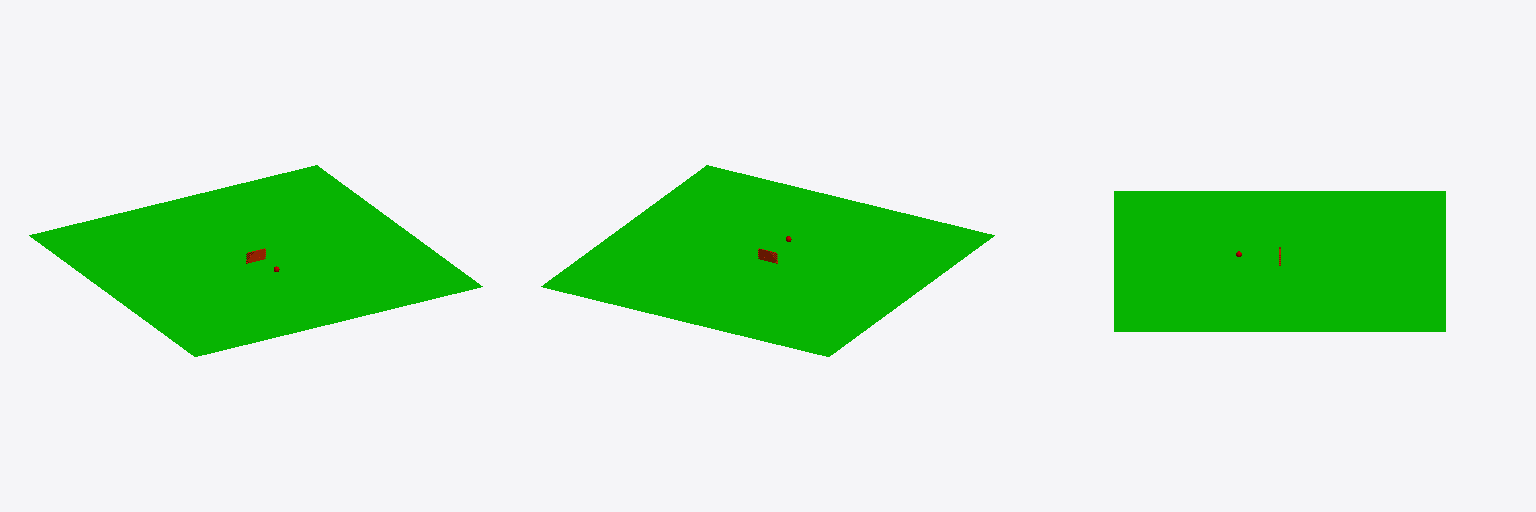
The model's file is Colision.obj.
3 renders of one model, left to right at view 1: azimuth 30°, elevation 25°; view 2: azimuth 150°, elevation 25°; view 3: azimuth 270°, elevation 25°, orthographic.
Parts seen in each view (by area): view 1: Plane; view 2: Plane; view 3: Plane.
Boxes of the visible parts, x1,y1,x2,y2 form: Plane: [29, 165, 482, 356]; Plane: [541, 165, 994, 356]; Plane: [1114, 191, 1445, 331].
Bounding box in the file's own units: 587 × 20.18 × 587.